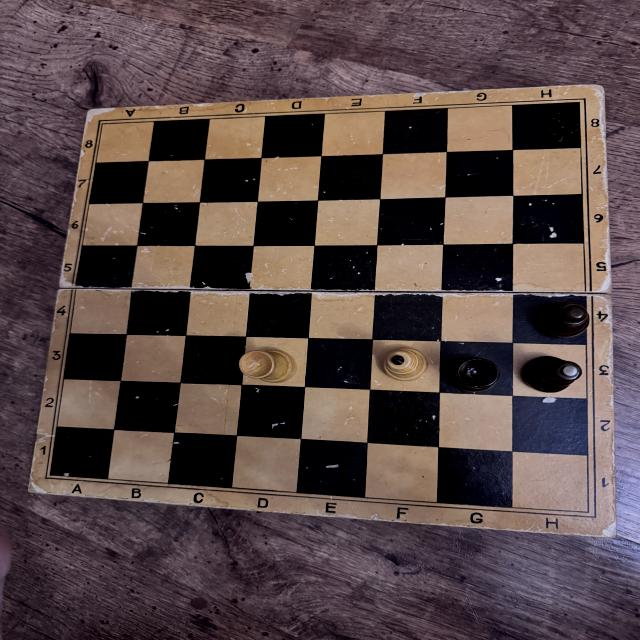black-king: (522, 356, 584, 392)
black-pawn: (535, 300, 590, 340)
black-rook: (443, 354, 503, 394)
white-king: (381, 349, 429, 382)
white-rook: (239, 349, 297, 384)
